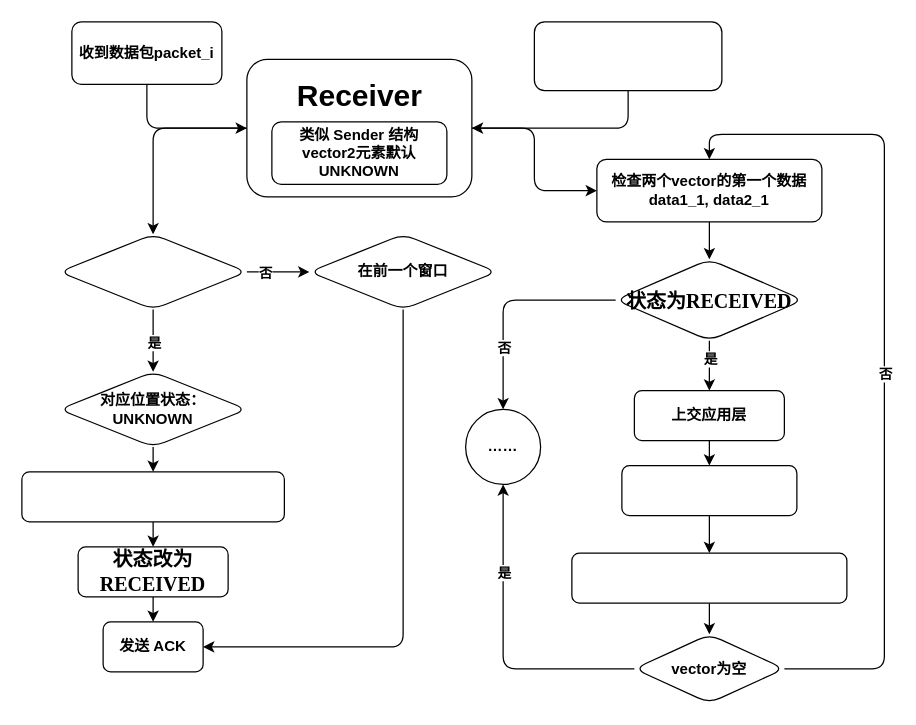
This 916x725 diagram has some shape labels left out. Each missing label, with the centre of its shape:
ACK Received && 是接收窗口的第一个包: point 627,56
在 vector1, vector2 后加入新的空数据: point 709,577
在当前窗口: point 152,271
将data_i复制到 vector 中对应的位置: point 152,496
移除data1_1, data2_1: point 709,490
